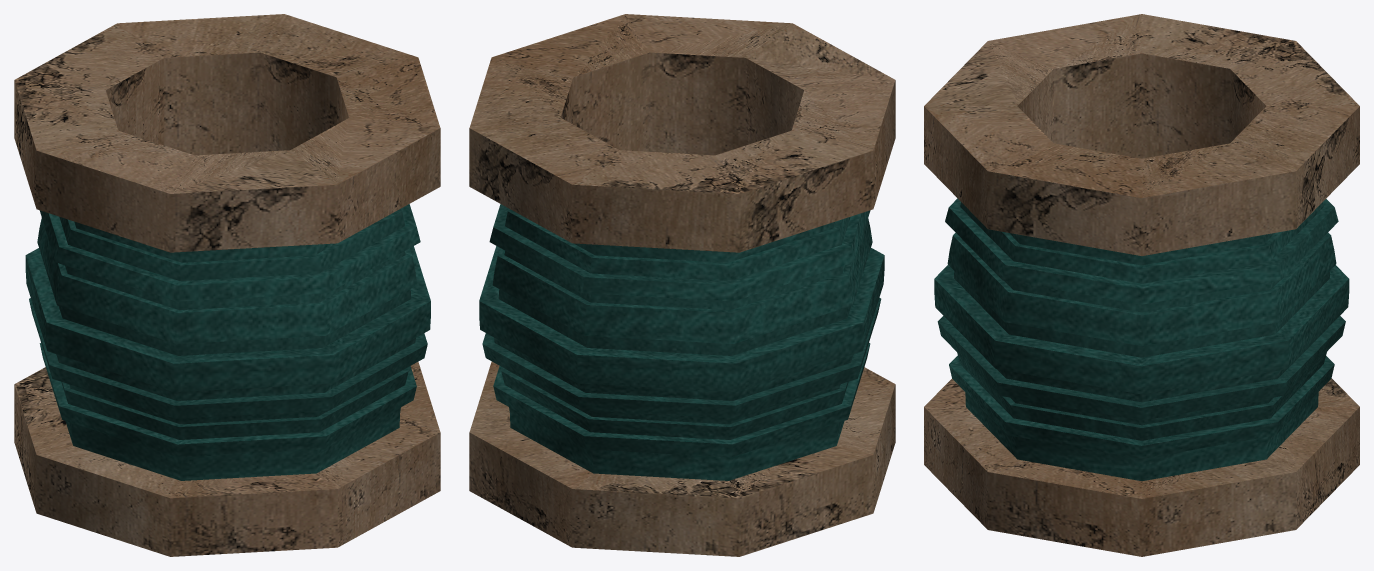
The model's file is CarreteEstambreVerdeAzulado.fbx.
3 renders of one model, left to right at view 1: azimuth 30°, elevation 25°; view 2: azimuth 150°, elevation 25°; view 3: azimuth 270°, elevation 25°, orthographic.
Visible parts, largest first — view 1: CarreteHilo.002; view 2: CarreteHilo.002; view 3: CarreteHilo.002.
Part boxes in pixels (x1,y1,x2,y2): CarreteHilo.002: (14, 14, 440, 556); CarreteHilo.002: (469, 14, 895, 556); CarreteHilo.002: (924, 14, 1359, 556).
Bounding box in the file's own units: 81.09 × 73.64 × 81.09.
1 material, 1 textured.
